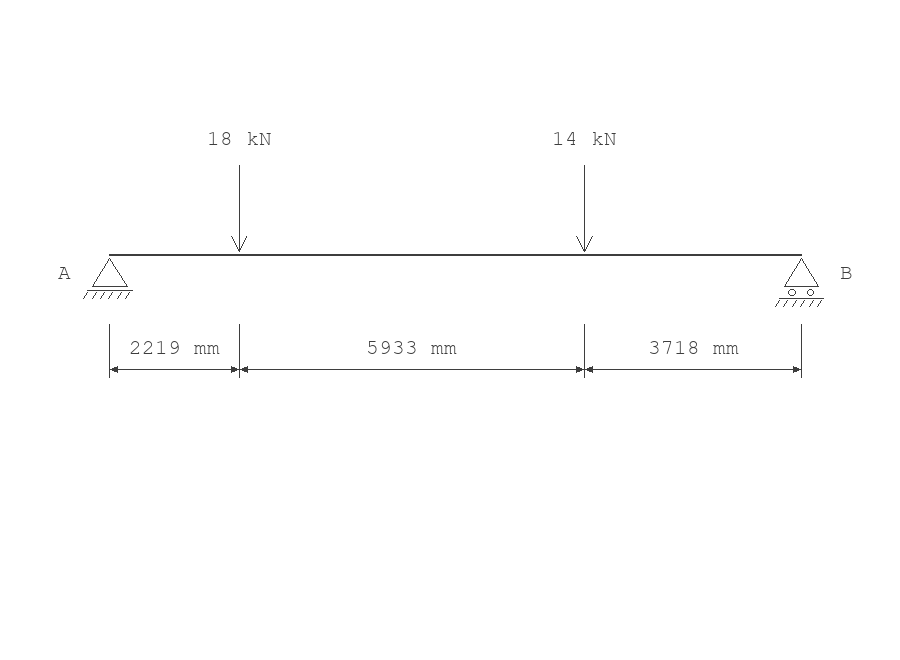pin_support: (83, 258, 133, 299)
point_load: (576, 165, 593, 252), (231, 165, 247, 252)
roller_support: (775, 258, 824, 307)
